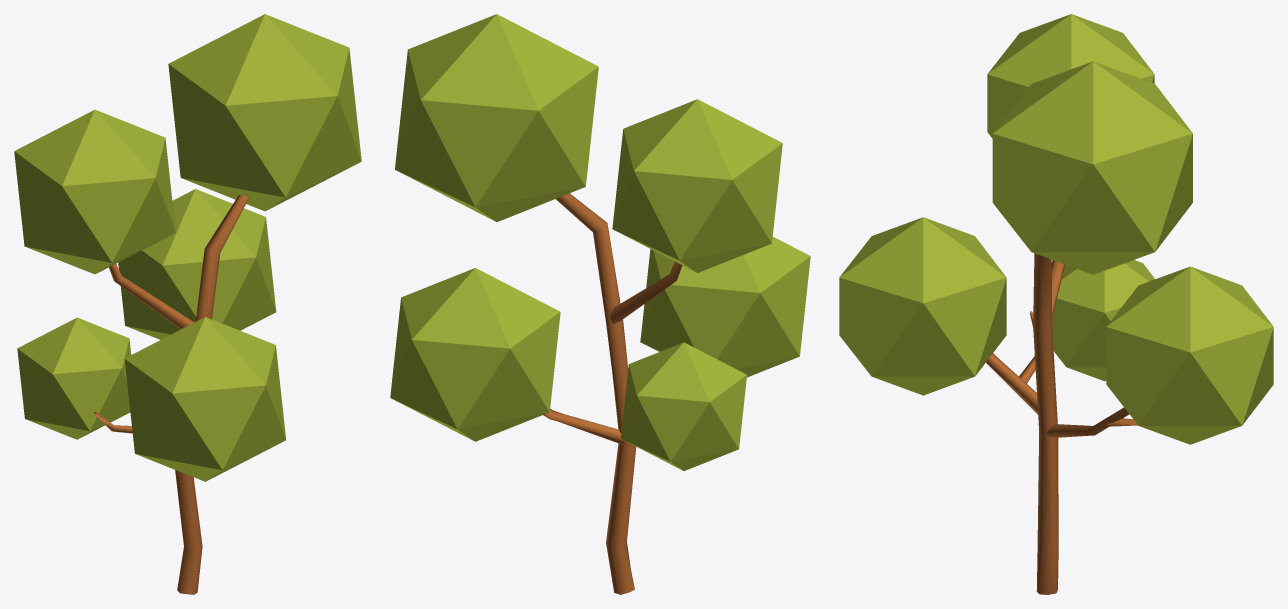
File: Normal-tree-compressed.glb
3 renders of one model, left to right at view 1: azimuth 30°, elevation 25°; view 2: azimuth 150°, elevation 25°; view 3: azimuth 270°, elevation 25°, orthographic. The views are drawn at different scales.
Parts seen in each view (by area): view 1: treeLeaves.002, treeLeaves.003, treeLeaves.004, treeLeaves.001, treeLeaves.005, treeBody.012; view 2: treeLeaves.002, treeLeaves.001, treeLeaves.004, treeLeaves.003, treeLeaves.005, treeBody.012; view 3: treeLeaves.002, treeLeaves.003, treeLeaves.001, treeBody.012, treeLeaves.004, treeLeaves.005.
Part boxes in pixels (x1=…): treeLeaves.002: x1=168, y1=14, x2=361, y2=211; treeLeaves.003: x1=124, y1=317, x2=285, y2=481; treeLeaves.004: x1=14, y1=109, x2=175, y2=274; treeLeaves.001: x1=118, y1=189, x2=276, y2=339; treeLeaves.005: x1=17, y1=317, x2=131, y2=439; treeBody.012: x1=94, y1=195, x2=249, y2=594; treeLeaves.002: x1=395, y1=14, x2=598, y2=221; treeLeaves.001: x1=390, y1=268, x2=560, y2=441; treeLeaves.004: x1=612, y1=99, x2=782, y2=272; treeLeaves.003: x1=640, y1=237, x2=810, y2=377; treeLeaves.005: x1=620, y1=342, x2=746, y2=470; treeBody.012: x1=543, y1=193, x2=682, y2=594; treeLeaves.002: x1=992, y1=61, x2=1192, y2=274; treeLeaves.003: x1=839, y1=217, x2=1006, y2=395; treeLeaves.001: x1=1106, y1=266, x2=1273, y2=444; treeBody.012: x1=986, y1=253, x2=1137, y2=594; treeLeaves.004: x1=987, y1=14, x2=1154, y2=138; treeLeaves.005: x1=1052, y1=260, x2=1154, y2=381.
Bounding box in the file's own units: 1.77 × 2.72 × 1.84.
Materials: 6 (6 with a texture image).
